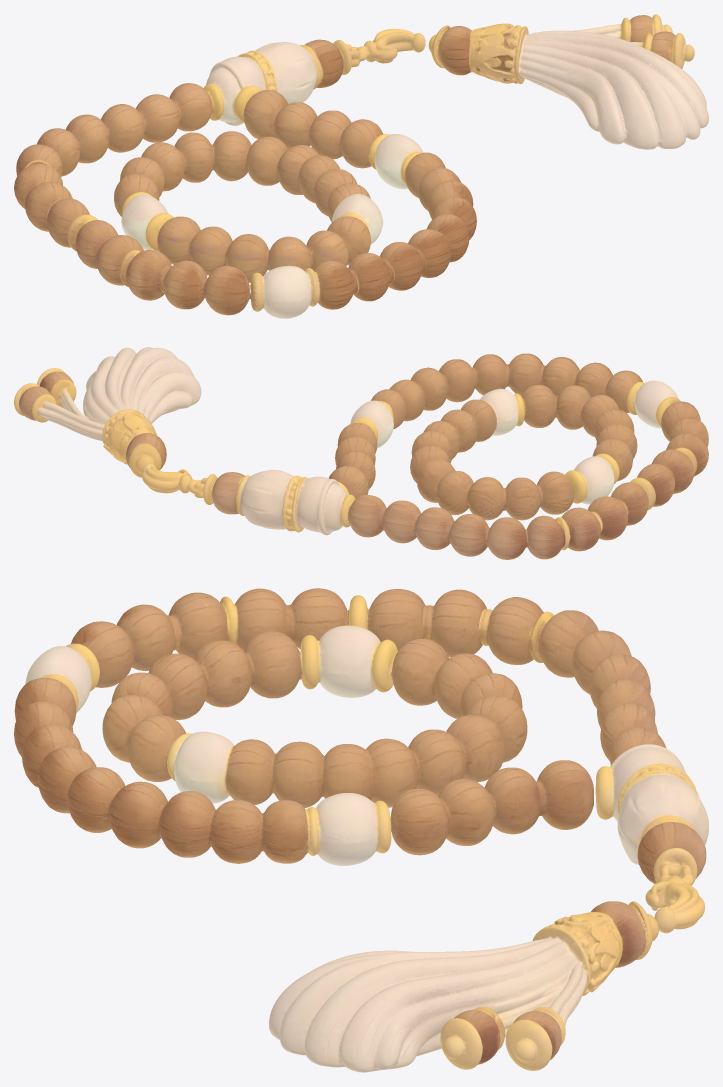
Rendered from tasbih-05-sandalwood-cream.glb.
The picture shows the model from 3 angles, top to bottom: view 1: azimuth 30°, elevation 25°; view 2: azimuth 150°, elevation 25°; view 3: azimuth 270°, elevation 25°; orthographic projection. The views are drawn at different scales.
Visible parts, largest first — view 1: mesh_node; view 2: mesh_node; view 3: mesh_node.
Boxes of the visible parts, x1=… form: mesh_node: x1=14, y1=14, x2=708, y2=318; mesh_node: x1=14, y1=347, x2=708, y2=559; mesh_node: x1=14, y1=588, x2=708, y2=1072.
Size of the model in its own units: 1.9 by 0.1725 by 1.25.
1 material, 1 textured.
